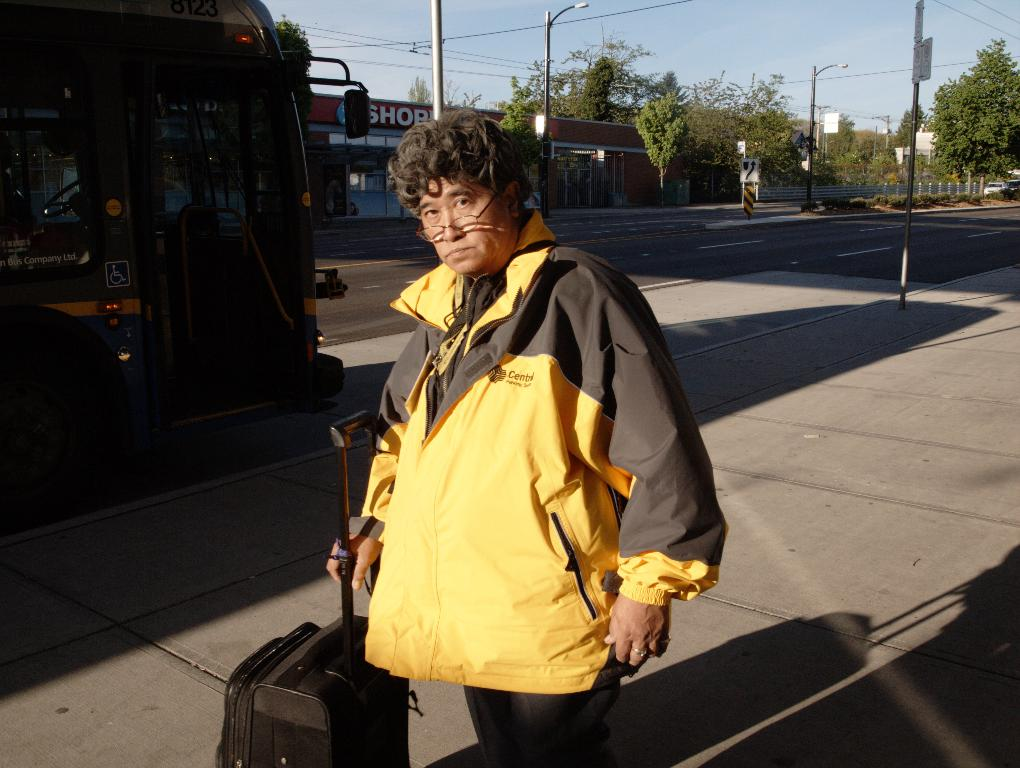Bus: (0, 0, 374, 463)
